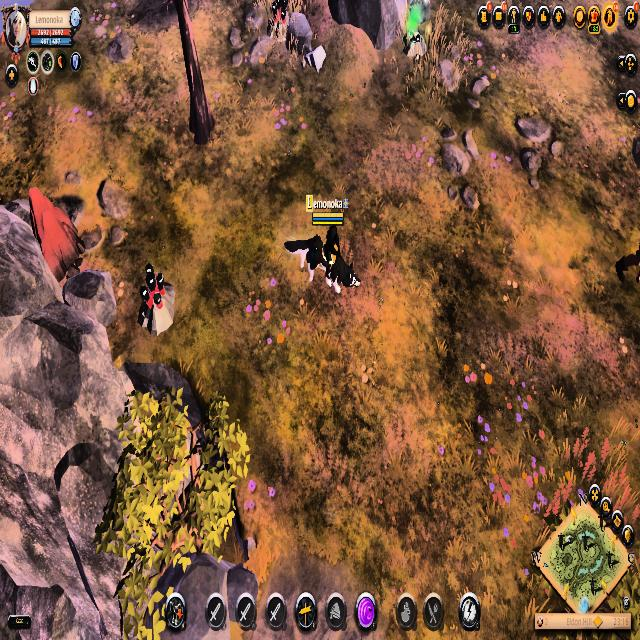ore tier 5: (135, 262, 177, 336)
rock tier 5: (27, 186, 86, 286)
